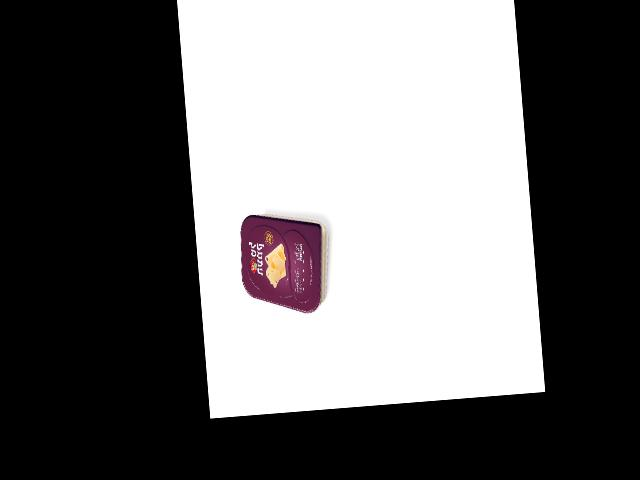cheese: (236, 208, 333, 318)
